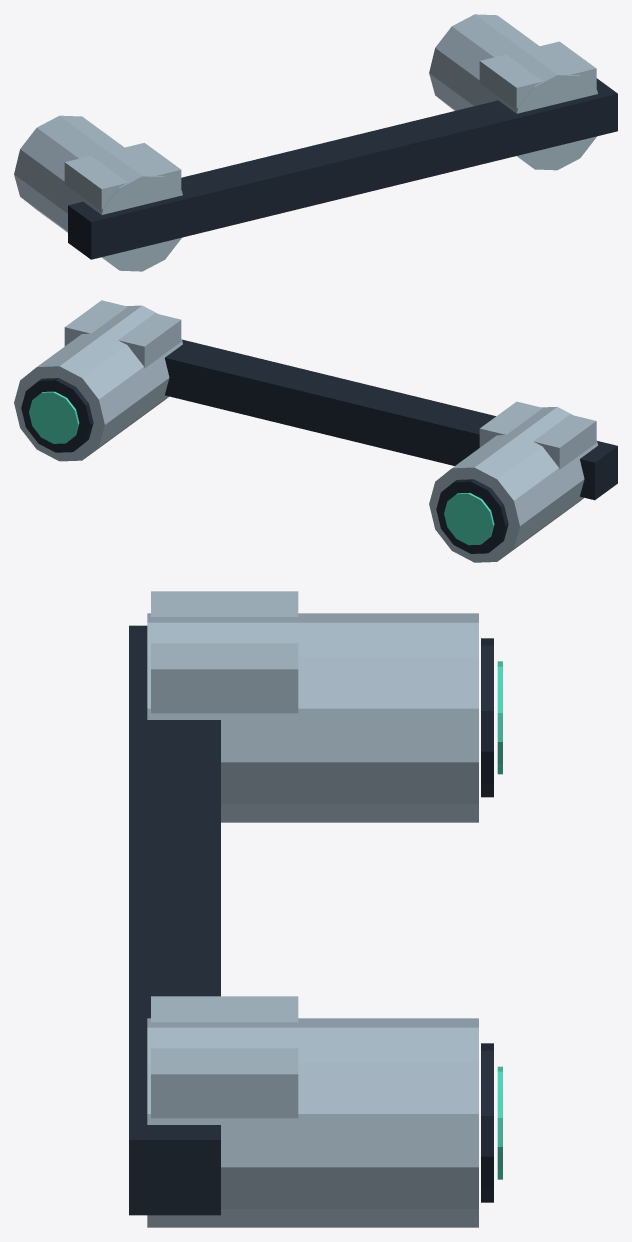
Rendered from teal.glb.
3 views of the same model, one above another, from view 1: azimuth 30°, elevation 25°; view 2: azimuth 150°, elevation 25°; view 3: azimuth 270°, elevation 25° (orthographic). The views are drawn at different scales.
Visible parts, largest first — view 1: EffectAccessory; view 2: EffectAccessory; view 3: EffectAccessory.
Part boxes in pixels (x1=…): EffectAccessory: x1=14, y1=14, x2=617, y2=271; EffectAccessory: x1=14, y1=300, x2=617, y2=562; EffectAccessory: x1=129, y1=591, x2=502, y2=1227.
Bounding box in the file's own units: 0.66 × 0.114 × 0.203.
